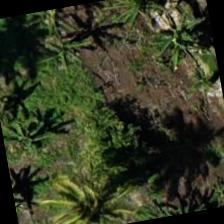Kelapa_Sawit: (40, 152, 142, 223)
